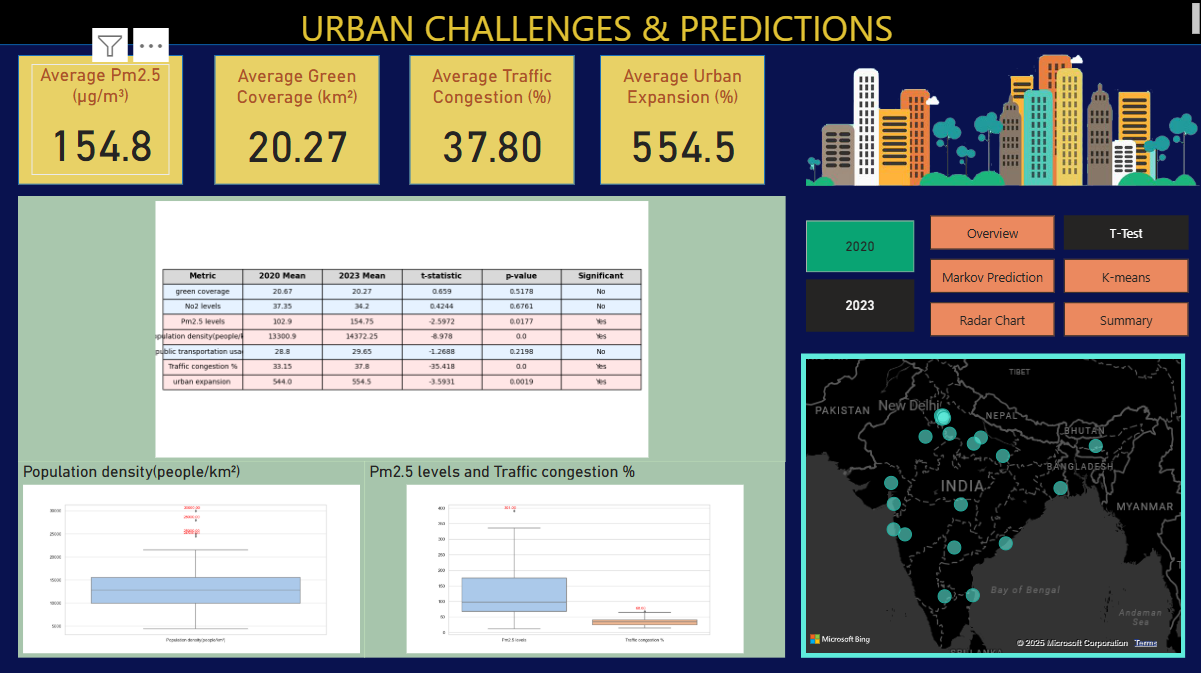

Layout of this report page (visuals, bound fields, positions):
{"tool":"powerbi","page":{"name":"T-Test","canvas":[1280,720],"ordinal":1},"visuals":[{"type":"image","box":[852.5,50,427.5,160],"z":0},{"type":"shape","box":[0,0,1280,50],"z":1000},{"type":"textbox","box":[0,0,1280,50],"z":2000},{"type":"shape","box":[640,60,175,137.5],"z":3000},{"type":"shape","box":[437.5,60,175,137.5],"z":4000},{"type":"shape","box":[230,60,175,137.5],"z":5000},{"type":"shape","box":[22.5,60,175,137.5],"z":6000},{"type":"map","fields":{"Category":["Sheet1.CITY"]},"box":[852.5,377.5,407.5,322.5],"z":7000},{"type":"pageNavigator","box":[989.4,230.6,275.2,128.8],"z":8000},{"type":"card","title":"Average Pm2.5 (µg/m³)","fields":{"Values":["Avg(Sheet1.Pm2.5 levels)"]},"box":[36.6,70,146.3,117.7],"z":9000},{"type":"card","title":"Average Green Coverage (km²)","fields":{"Values":["Avg(Sheet1.green coverage)"]},"box":[245,71.6,146.3,117.7],"z":10000},{"type":"card","title":"Average Traffic Congestion (%)","fields":{"Values":["Avg(Sheet1.Traffic congestion %)"]},"box":[451.7,71.6,146.3,117.7],"z":11000},{"type":"card","title":"Average Urban Expansion (%)","fields":{"Values":["Avg(Sheet1.urban expansion )"]},"box":[653.7,71.6,146.3,117.7],"z":12000},{"type":"advancedSlicerVisual","fields":{"Values":["Sheet1.YEAR"]},"box":[852.6,230.6,125.7,128.8],"z":13000},{"type":"pythonVisual","fields":{"Values":["Sheet1.CITY","Sheet1.green coverage","Sheet1.No2 levels","Sheet1.Pm2.5 levels","Sheet1.Population density(people/km²)","Sheet1.public transportation usage","Sheet1.Traffic congestion %","Sheet1.urban expansion ","Sheet1.YEAR"]},"box":[22,210,814,282],"z":14000},{"type":"pythonVisual","fields":{"Values":["Sheet1.Pm2.5 levels","Sheet1.Traffic congestion %"]},"box":[390,492,446,208],"z":15000},{"type":"pythonVisual","fields":{"Values":["Sheet1.Population density(people/km²)"]},"box":[22,492,368,208],"z":16000}]}

Visuals, with their boxes in screenshot pixels (x1, y1, x2, y2), scaled from the page's 1280x720 canvas onto the 1201x673 screenshot:
image: <bbox>800, 47, 1200, 196</bbox>
shape: <bbox>0, 0, 1200, 47</bbox>
textbox: <bbox>0, 0, 1200, 47</bbox>
shape: <bbox>600, 56, 765, 185</bbox>
shape: <bbox>410, 56, 575, 185</bbox>
shape: <bbox>216, 56, 380, 185</bbox>
shape: <bbox>21, 56, 185, 185</bbox>
map - Sheet1.CITY: <bbox>800, 353, 1182, 654</bbox>
pageNavigator: <bbox>928, 216, 1187, 336</bbox>
"Average Pm2.5 (µg/m³)" card: <bbox>34, 65, 172, 175</bbox>
"Average Green Coverage (km²)" card: <bbox>230, 67, 367, 177</bbox>
"Average Traffic Congestion (%)" card: <bbox>424, 67, 561, 177</bbox>
"Average Urban Expansion (%)" card: <bbox>613, 67, 751, 177</bbox>
advancedSlicerVisual - Sheet1.YEAR: <bbox>800, 216, 918, 336</bbox>
pythonVisual - Sheet1.CITY x Sheet1.green coverage: <bbox>21, 196, 784, 460</bbox>
pythonVisual - Sheet1.Pm2.5 levels x Sheet1.Traffic congestion %: <bbox>366, 460, 784, 654</bbox>
pythonVisual - Sheet1.Population density(people/km²): <bbox>21, 460, 366, 654</bbox>
